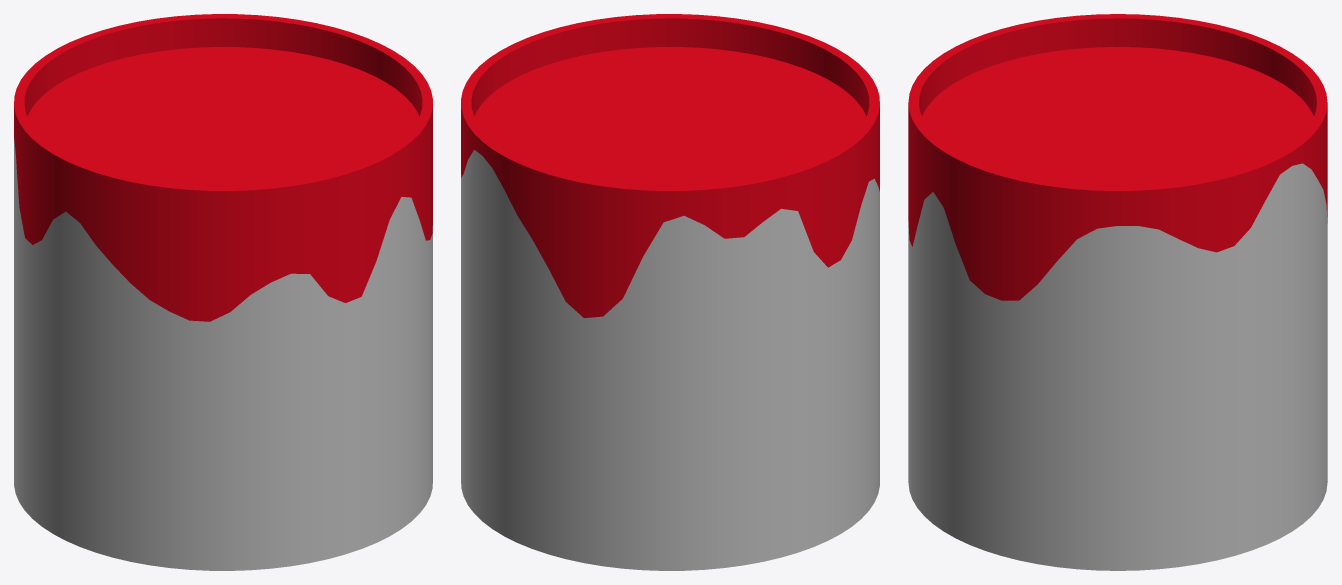
Rendered from PintureCan.fbx.
The picture shows the model from 3 angles, left to right: view 1: azimuth 30°, elevation 25°; view 2: azimuth 150°, elevation 25°; view 3: azimuth 270°, elevation 25°; orthographic projection.
Parts seen in each view (by area): view 1: Cylinder; view 2: Cylinder; view 3: Cylinder.
Boxes of the visible parts, x1,y1,x2,y2 form: Cylinder: (14, 14, 432, 570); Cylinder: (461, 14, 879, 570); Cylinder: (908, 14, 1327, 570).
Bounding box in the file's own units: 200 × 200 × 200.
